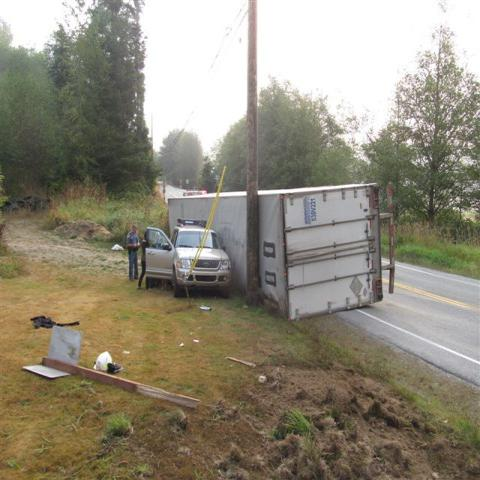car: (143, 216, 233, 299)
truck: (168, 182, 389, 327)
